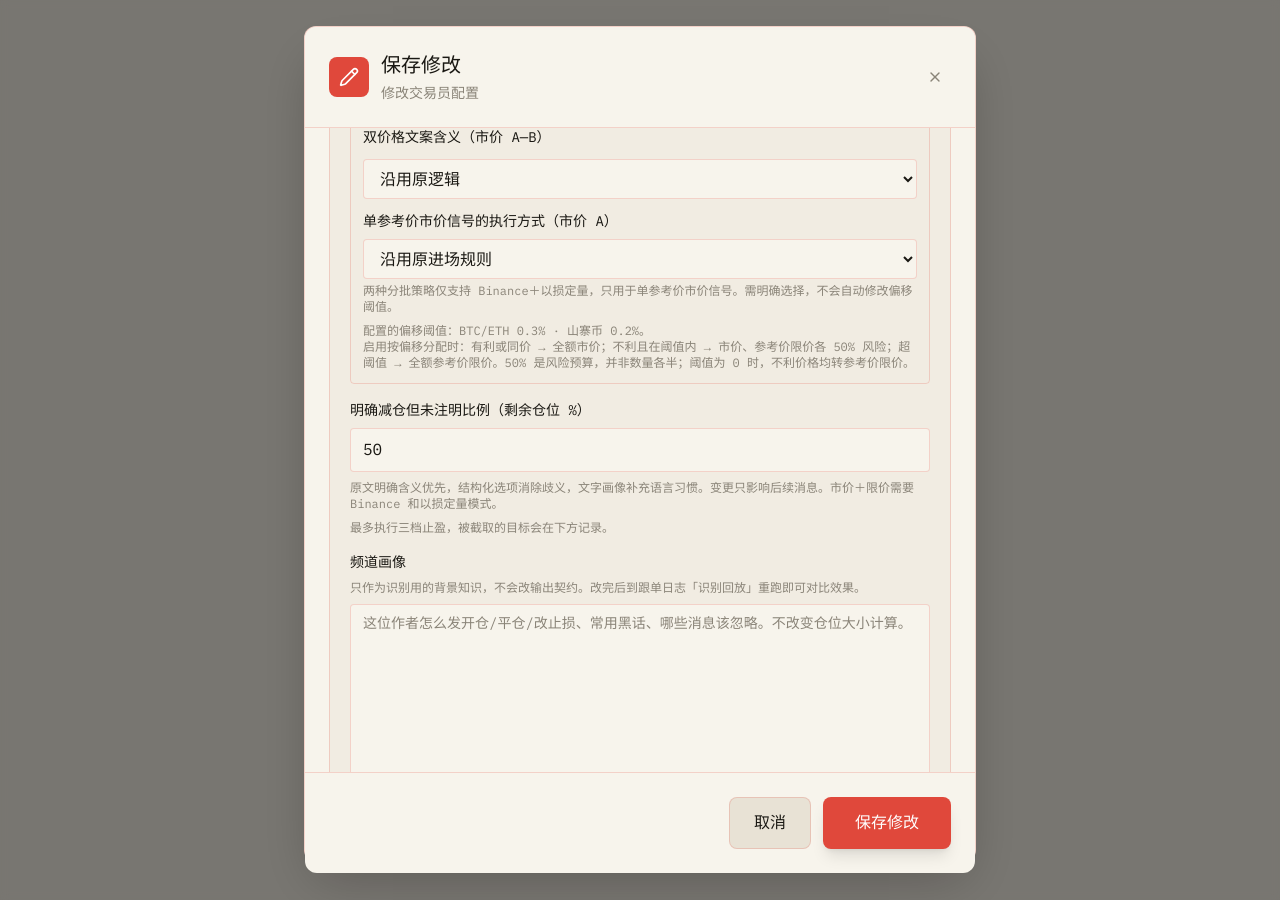
it: copy-trading opt-in settings › rejects an invalid default reduction 0
The width and height of the screenshot is (1280, 900).
(page scrolled)
Replace the text in the number field labelled "明确减仓但未注明比例（剩余仓位 %）" with "0" at [640, 450], box [350, 428, 930, 472]
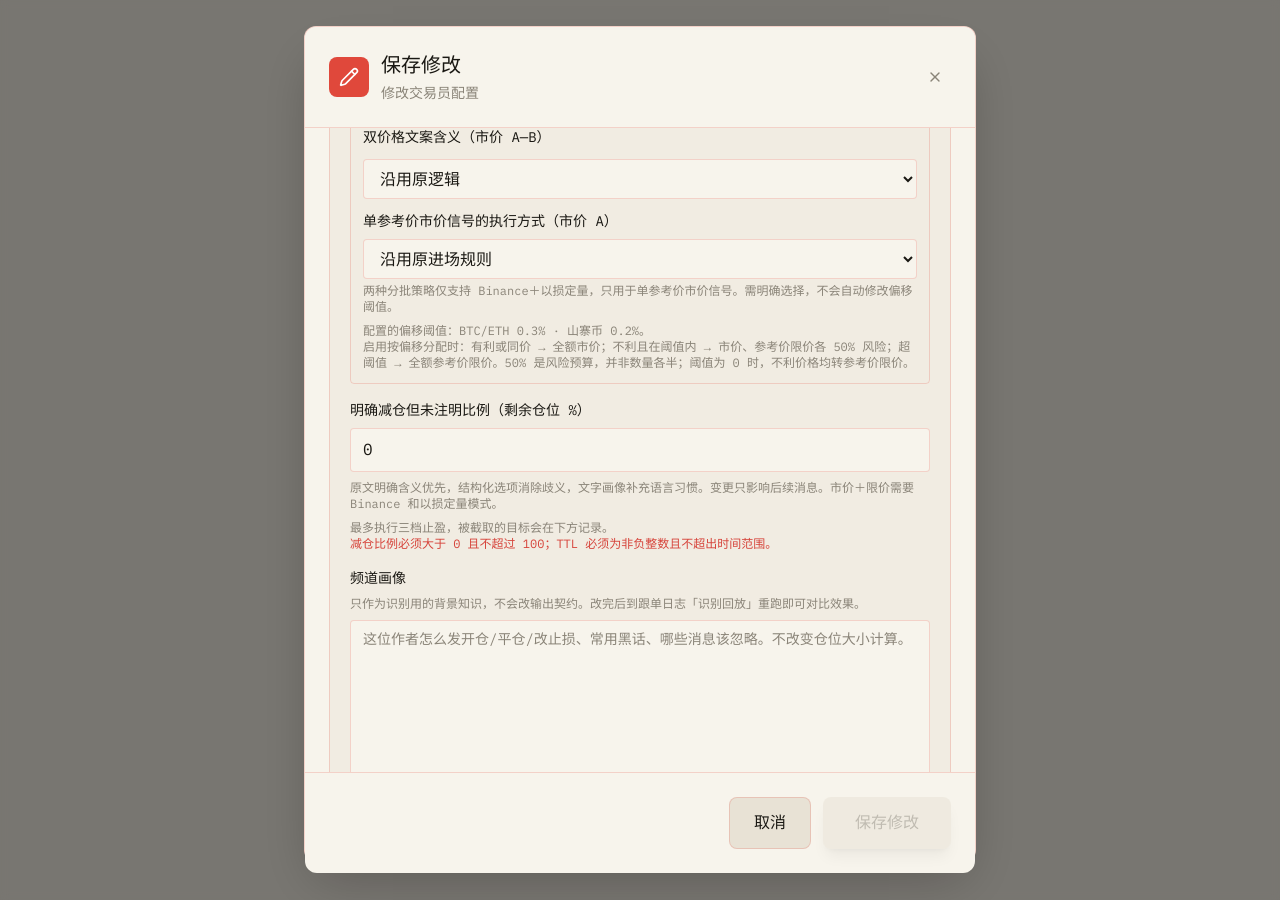
Expected: the button "保存修改" is disabled, [823, 797, 951, 849]
